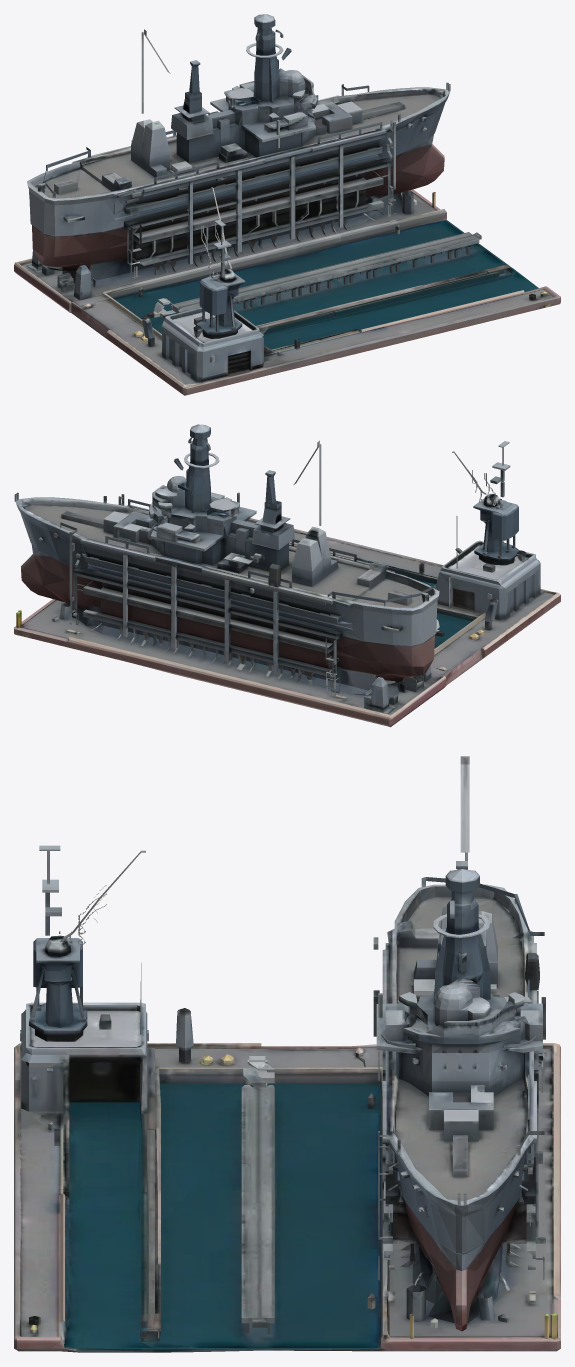
Rendered from drydock_LOD0.glb.
3 renders of one model, top to bottom at view 1: azimuth 30°, elevation 25°; view 2: azimuth 150°, elevation 25°; view 3: azimuth 270°, elevation 25°, orthographic. The views are drawn at different scales.
Visible parts, largest first — view 1: drydock_LOD0; view 2: drydock_LOD0; view 3: drydock_LOD0.
Part boxes in pixels (x1,y1,x2,y2): drydock_LOD0: [14, 14, 560, 395]; drydock_LOD0: [14, 424, 560, 727]; drydock_LOD0: [14, 756, 560, 1352].
Bounding box in the file's own units: 0.9935 × 0.5504 × 0.7124.
Materials: 1 (1 with a texture image).
